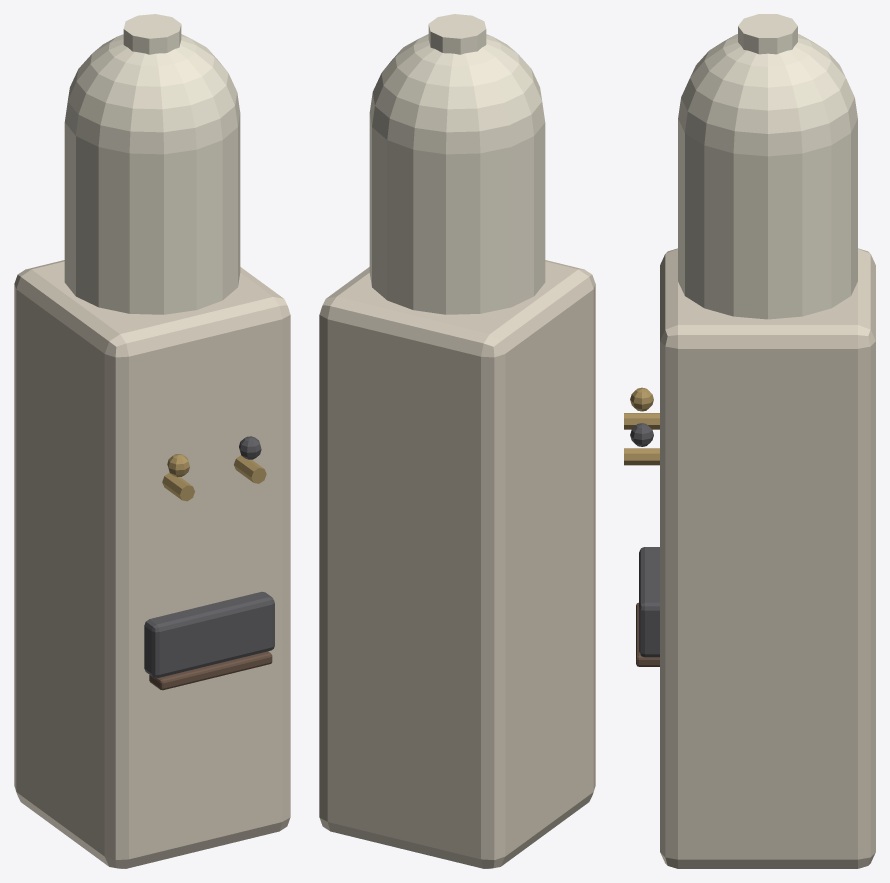
3 views of the same model, side by side, from view 1: azimuth 30°, elevation 25°; view 2: azimuth 150°, elevation 25°; view 3: azimuth 270°, elevation 25° (orthographic).
Parts seen in each view (by area): view 1: waterCooler; view 2: waterCooler; view 3: waterCooler.
Boxes of the visible parts, left/top/right/bottom form: waterCooler: left=14, top=14, right=290, bottom=868; waterCooler: left=319, top=14, right=595, bottom=868; waterCooler: left=624, top=14, right=875, bottom=868.
Size of the model in its own units: 0.36 by 1.48 by 0.42.
